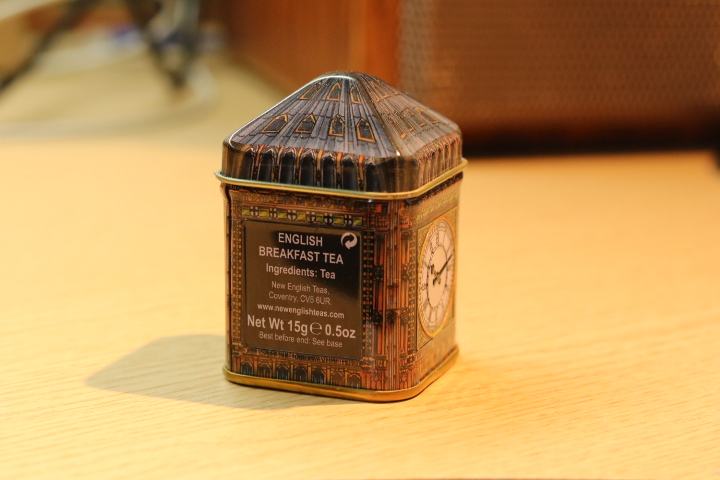Big Ben: (196, 60, 486, 427)
